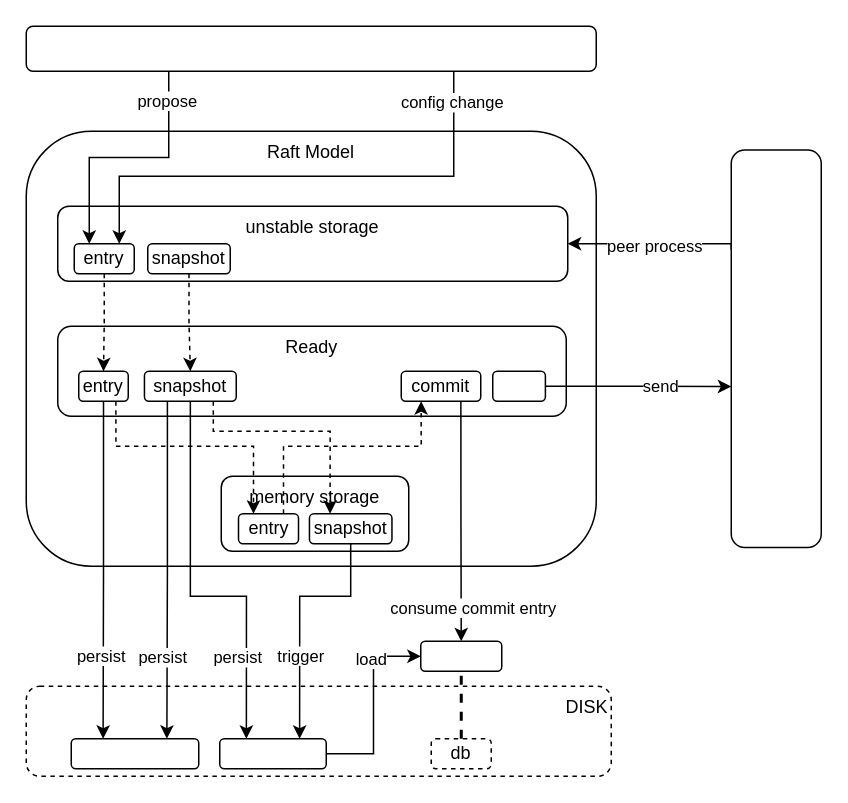
Image size: 848x803. Some labels were removed from this diagram. Here are the shapes that lost their labels. From the top down, the centre of each, then its label:
(310,48): kv transport
(775,348): peer transport
(518,385): msg
(460,655): backend
(134,753): wal file
(272,753): snapshot file
